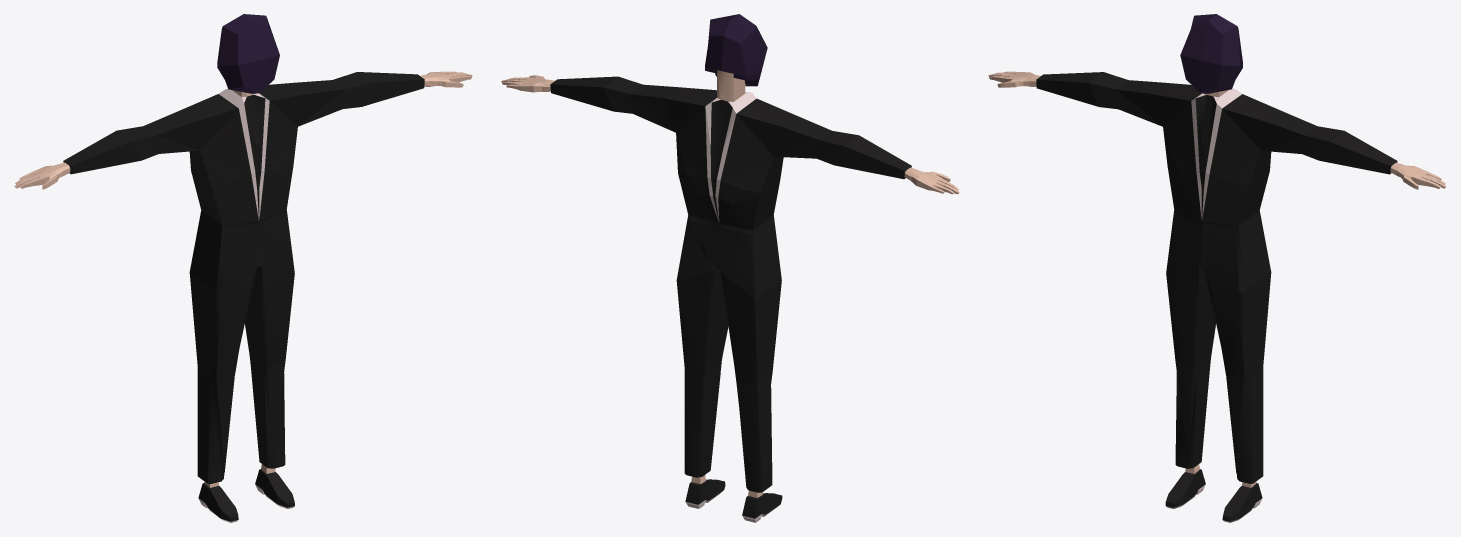
Rendered from personazh.fbx.
3 views of the same model, side by side, from view 1: azimuth 30°, elevation 25°; view 2: azimuth 150°, elevation 25°; view 3: azimuth 330°, elevation 25° (orthographic).
Parts seen in each view (by area): view 1: pers1; view 2: pers1; view 3: pers1.
Part boxes in pixels (x1,y1,x2,y2): pers1: (14,14,472,522); pers1: (501,14,959,522); pers1: (988,14,1446,522).
Size of the model in its own units: 665 by 680 by 90.87.
